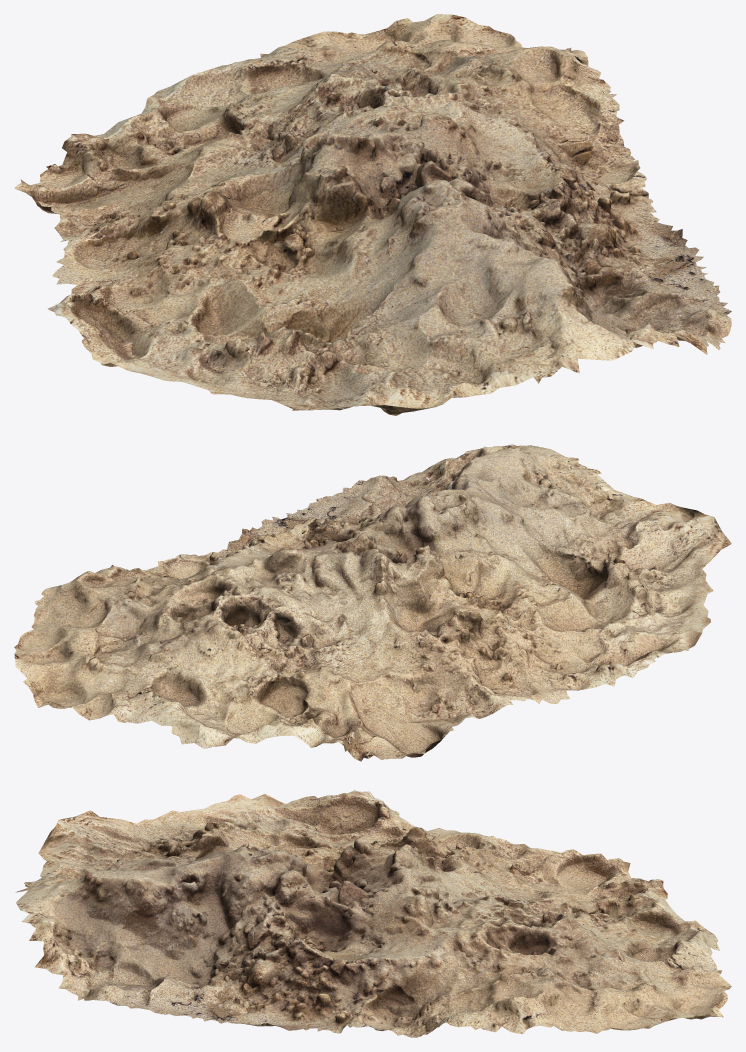
Rendered from beach_sand_photoscan.glb.
3 renders of one model, top to bottom at view 1: azimuth 30°, elevation 25°; view 2: azimuth 150°, elevation 25°; view 3: azimuth 270°, elevation 25°, orthographic. The views are drawn at different scales.
Parts seen in each view (by area): view 1: Object_3; view 2: Object_3; view 3: Object_3.
Part boxes in pixels (x1,y1,x2,y2): Object_3: (14, 14, 731, 415); Object_3: (14, 444, 731, 761); Object_3: (15, 790, 731, 1037).
Size of the model in its own units: 13.6 by 2.61 by 16.34.
Materials: 1 (1 with a texture image).
